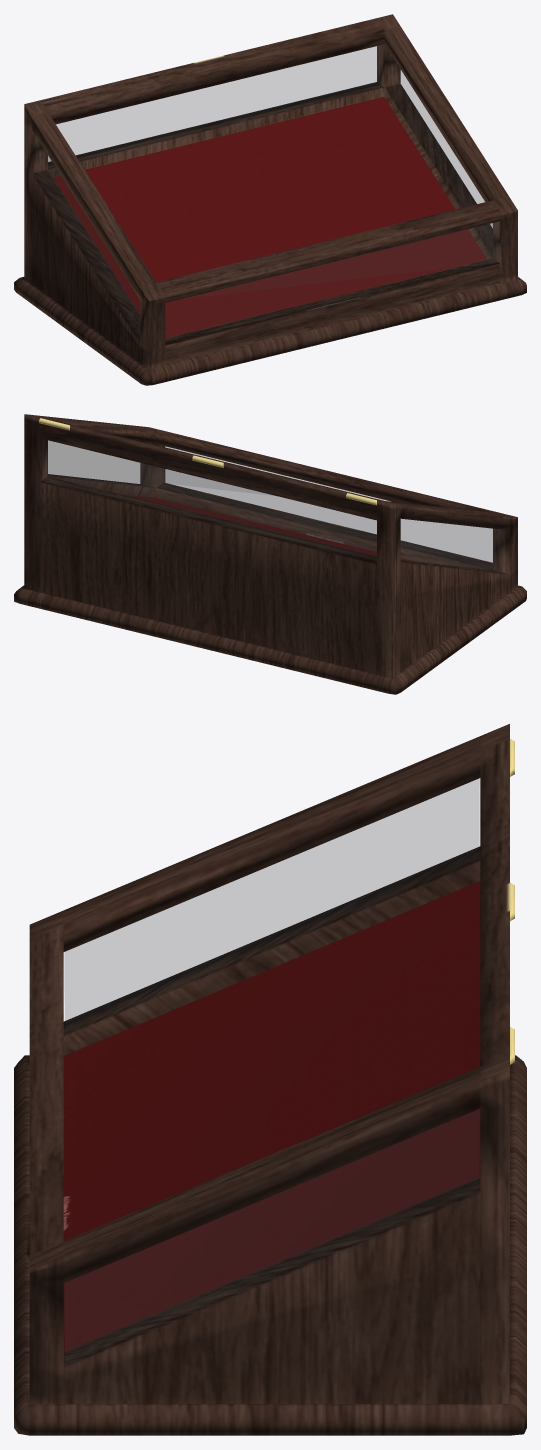
File: flatcase_baseonly.gltf
3 views of the same model, one above another, from view 1: azimuth 30°, elevation 25°; view 2: azimuth 150°, elevation 25°; view 3: azimuth 270°, elevation 25° (orthographic). The views are drawn at different scales.
Visible parts, largest first — view 1: LP_displey_case; view 2: LP_displey_case; view 3: LP_displey_case.
Part boxes in pixels (x1,y1,x2,y2): LP_displey_case: [14, 14, 526, 385]; LP_displey_case: [14, 414, 526, 694]; LP_displey_case: [14, 724, 526, 1435].
Bounding box in the file's own units: 4.99 × 2.31 × 3.
3 materials, 3 textured.
